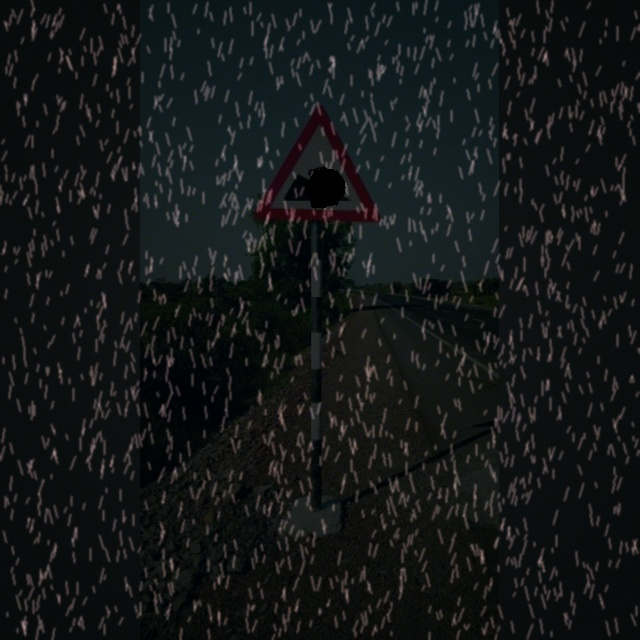Steep_Descent: (257, 105, 375, 221)
